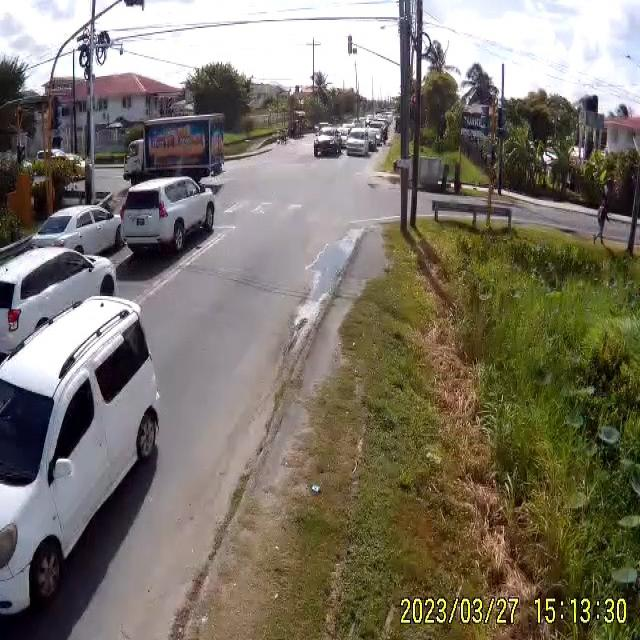car: (0, 247, 162, 635), (120, 175, 218, 259), (33, 204, 121, 255), (313, 132, 342, 158), (343, 132, 369, 156)
person: (596, 198, 611, 247)
truck: (123, 114, 225, 190)
